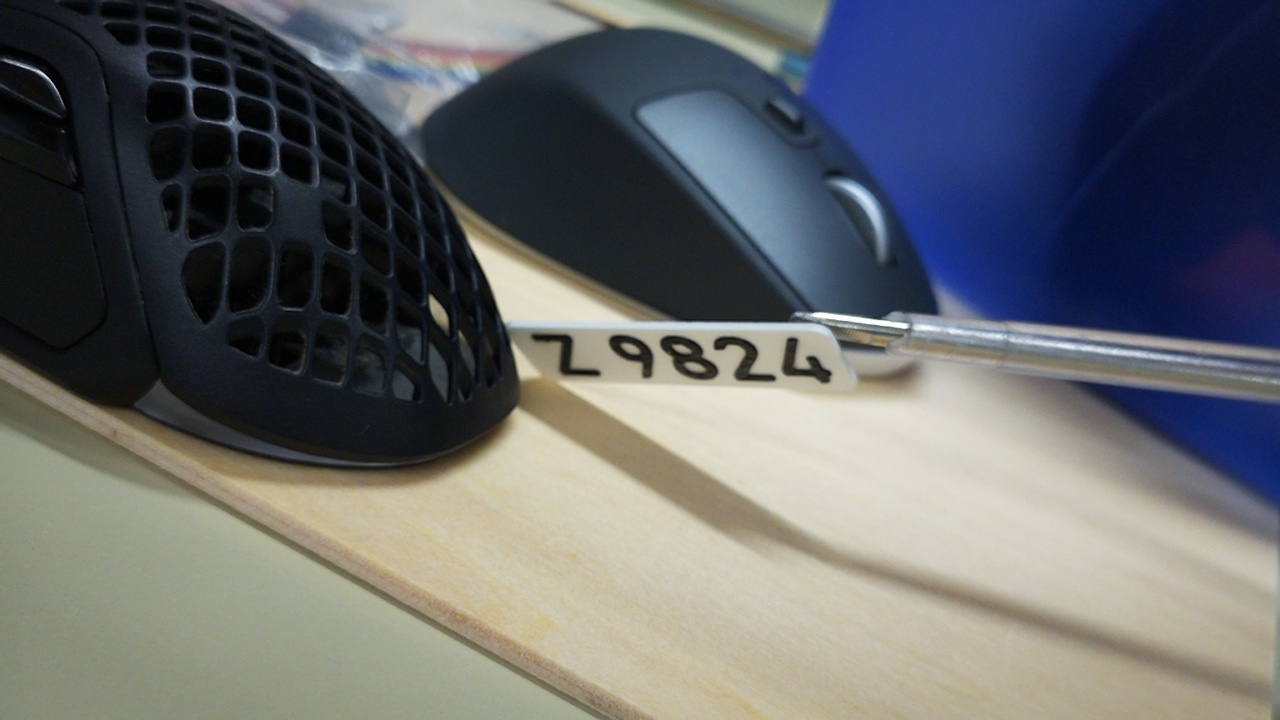license_plate: (503, 319, 860, 395)
